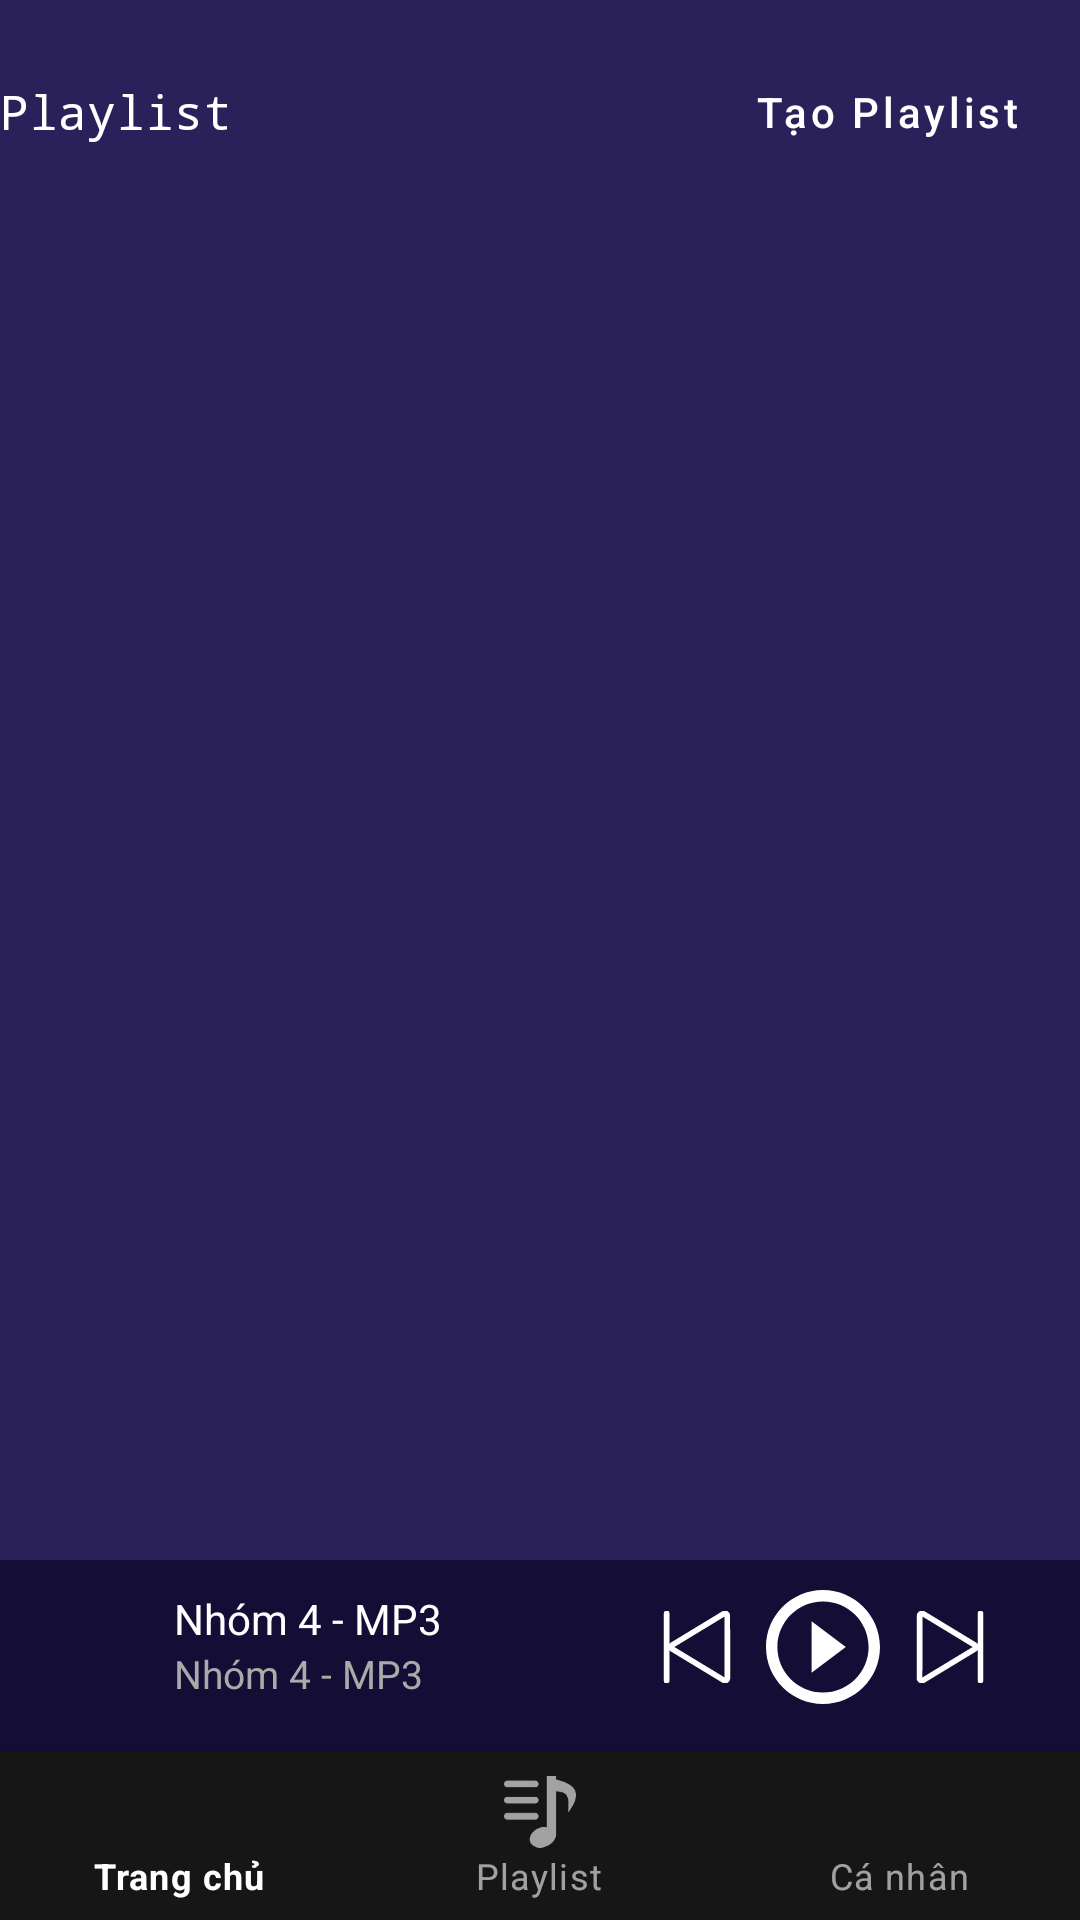

Screen size 1080 x 1920. Icon name, then its center in pixels as point (x, y):
back: point (697, 1647)
next: point (950, 1647)
play: point (823, 1647)
